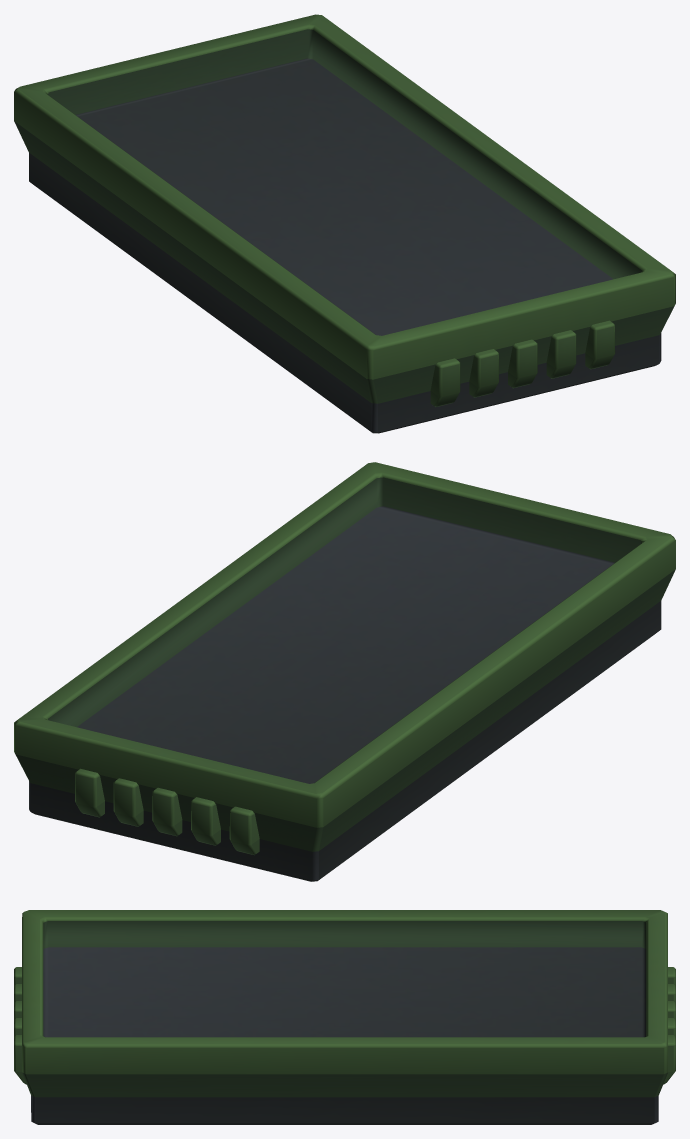
File: office_building_type2_roof_brown.fbx
The picture shows the model from 3 angles, top to bottom: view 1: azimuth 30°, elevation 25°; view 2: azimuth 150°, elevation 25°; view 3: azimuth 270°, elevation 25°; orthographic projection. The views are drawn at different scales.
Visible parts, largest first — view 1: office_building_type2_roof_brown; view 2: office_building_type2_roof_brown; view 3: office_building_type2_roof_brown.
Part boxes in pixels (x1=…): office_building_type2_roof_brown: x1=14, y1=14, x2=675, y2=433; office_building_type2_roof_brown: x1=14, y1=462, x2=675, y2=881; office_building_type2_roof_brown: x1=14, y1=910, x2=675, y2=1124.
Bounding box in the file's own units: 800 × 232 × 1640.
